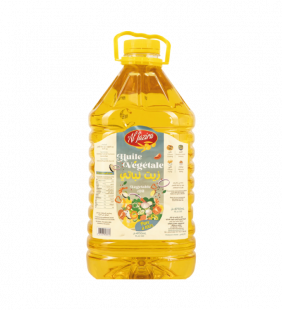AL JAZIRA: (85, 30, 197, 280)
